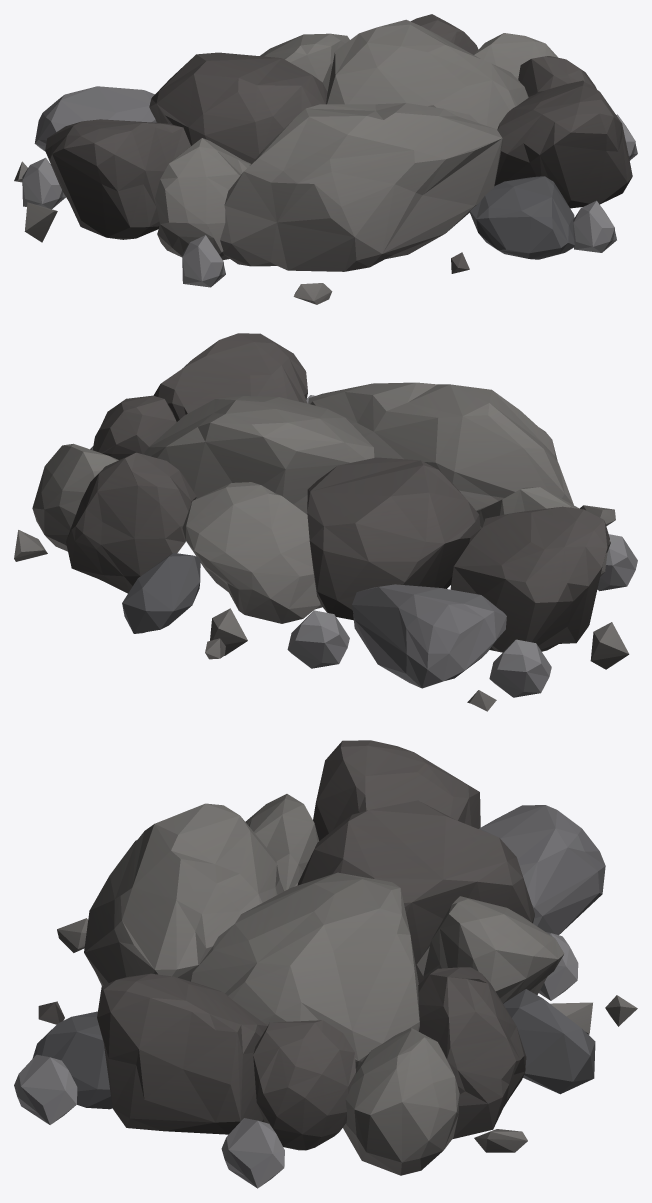
File: ZLPC_Rock_E_3.FBX
3 views of the same model, one above another, from view 1: azimuth 30°, elevation 25°; view 2: azimuth 150°, elevation 25°; view 3: azimuth 270°, elevation 25° (orthographic). The views are drawn at different scales.
Parts seen in each view (by area): view 1: ZLPC_Rock_E_3; view 2: ZLPC_Rock_E_3; view 3: ZLPC_Rock_E_3.
Part boxes in pixels (left/top/right/bottom): ZLPC_Rock_E_3: left=14, top=14, right=637, bottom=304; ZLPC_Rock_E_3: left=14, top=333, right=637, bottom=711; ZLPC_Rock_E_3: left=14, top=740, right=637, bottom=1188.
Bounding box in the file's own units: 458 × 118 × 356.
Materials: 1 (1 with a texture image).
